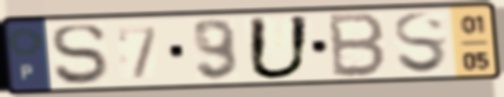7: (115, 25, 160, 80)
9: (189, 17, 241, 84)
B: (328, 11, 389, 80)
S: (390, 10, 451, 77), (48, 22, 109, 87)
U: (245, 14, 314, 82)
